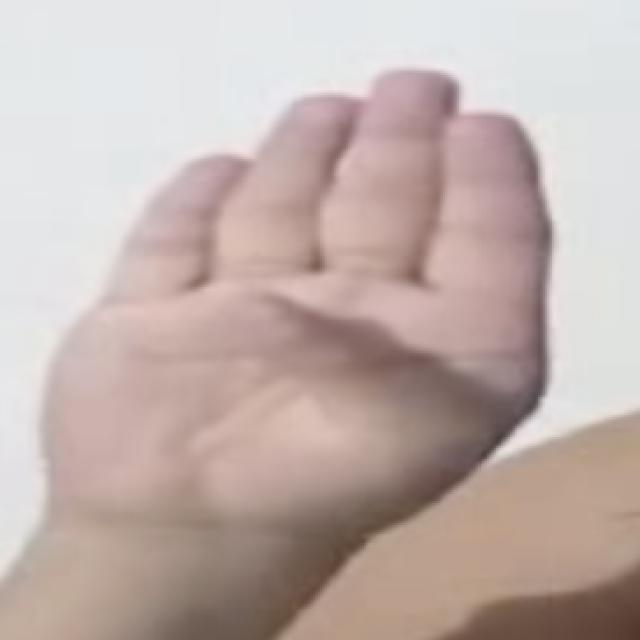B: (34, 52, 564, 535)
